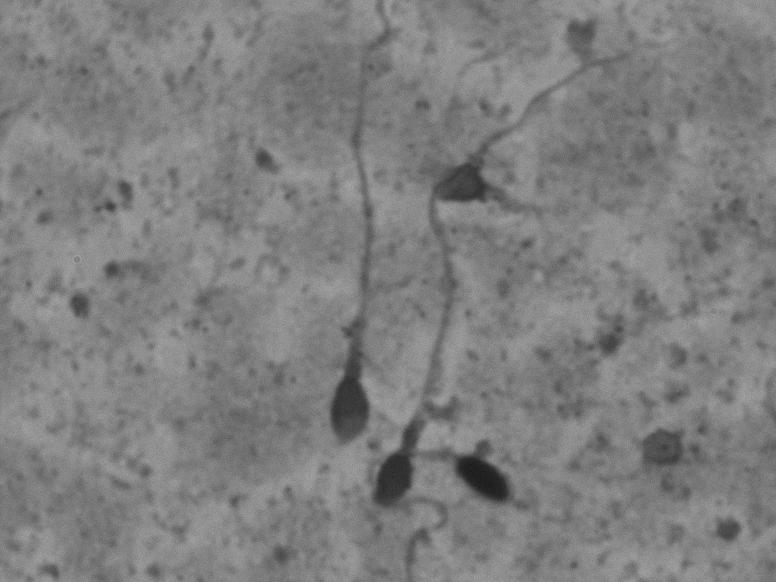Abnormal: (362, 24, 677, 535), (313, 44, 407, 467)
